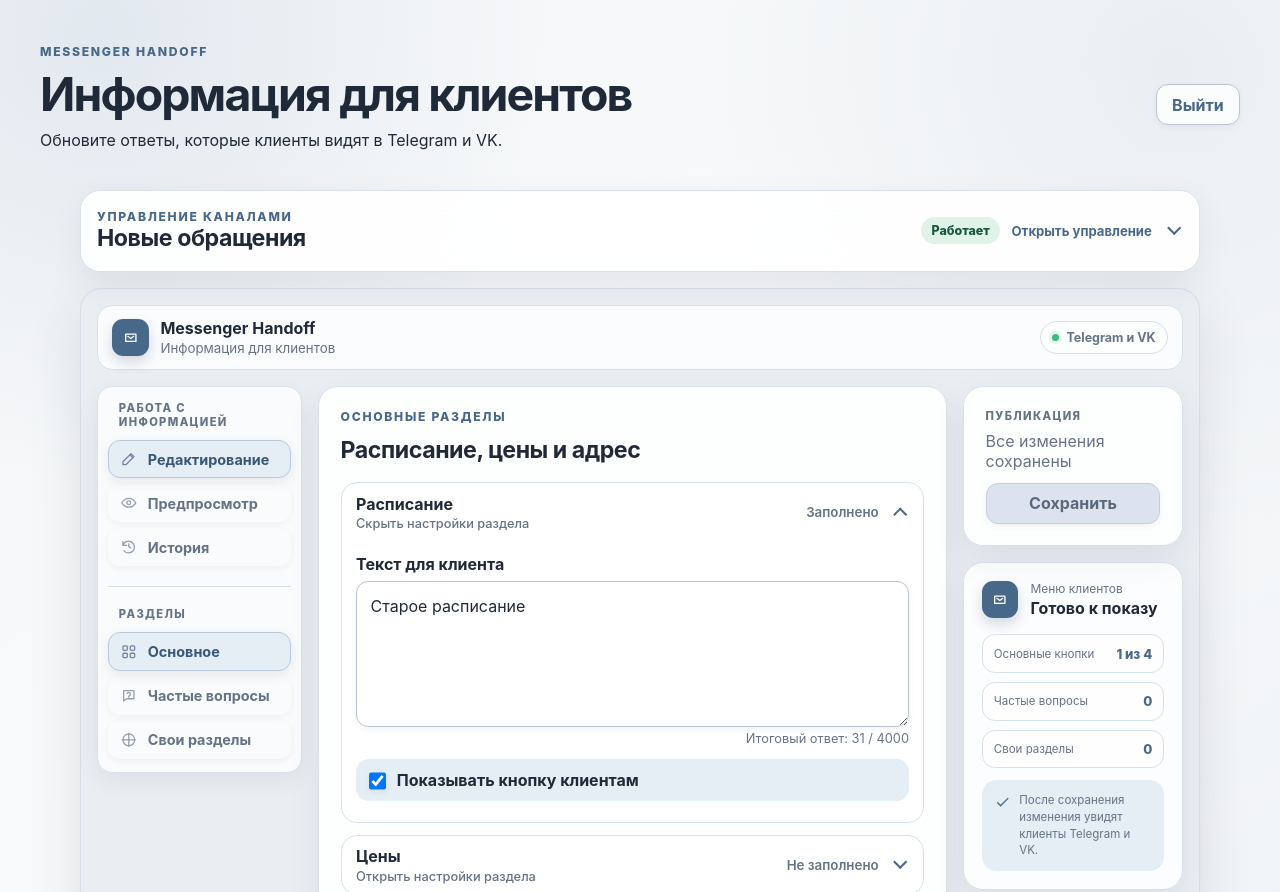
Test: ContentManagementPage states › keeps an unsaved draft visible after a failed save
This screenshot has width=1280, height=892.
Replace the text in the text box labelled "Текст для клиента" with "Новое расписание" at (632, 654), box [356,581,909,727]
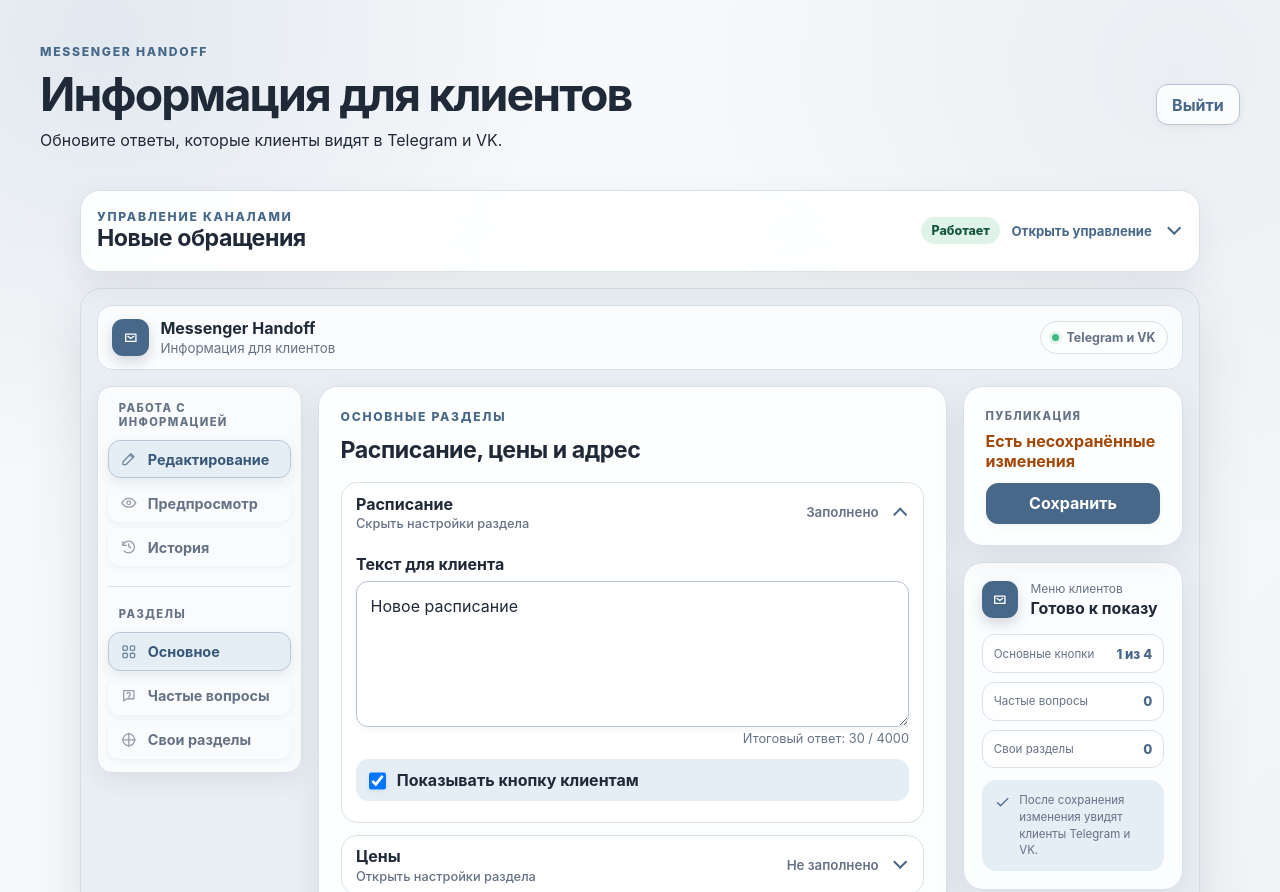
Click the button "Сохранить".
click(1073, 503)  # box [986,483,1160,524]
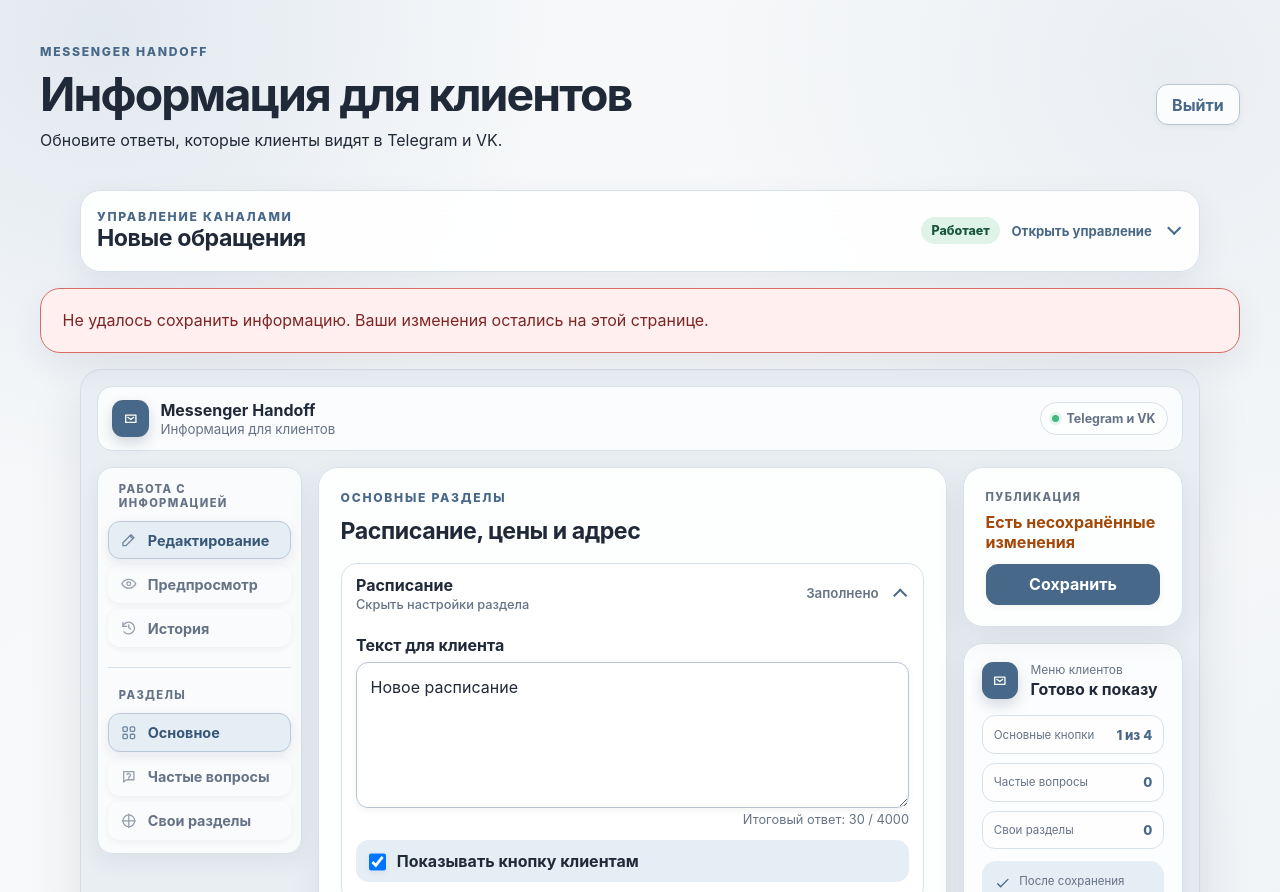
Expected: the message "Не удалось сохранить информацию. Ваши изменения остались на этой странице." is shown, [40,288,1240,353]
